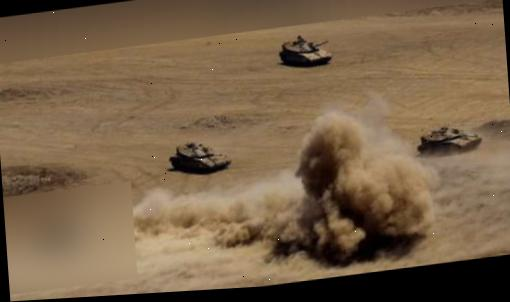tank: (165, 136, 232, 179), (415, 121, 483, 160), (276, 30, 332, 72)
